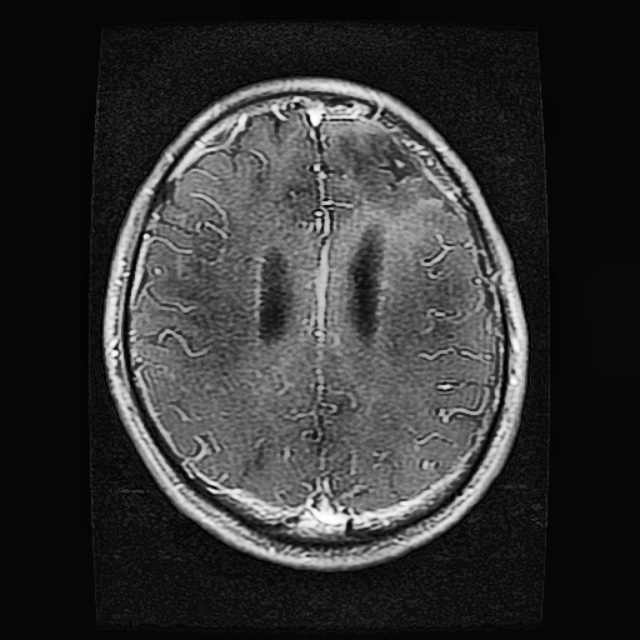Glioma: (342, 132, 440, 205)
